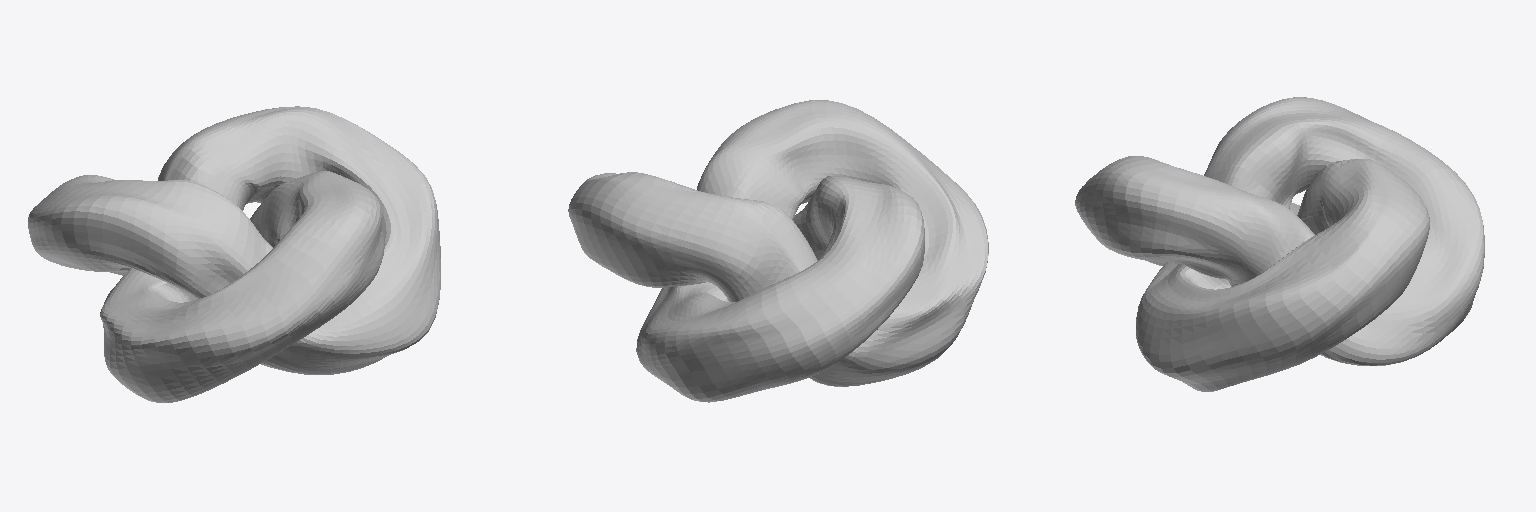
File: twisted-torus.obj
The picture shows the model from 3 angles: view 1: azimuth 30°, elevation 25°; view 2: azimuth 150°, elevation 25°; view 3: azimuth 270°, elevation 25°; orthographic projection.
Bounding box in the file's own units: 4.92 × 2.58 × 4.98.